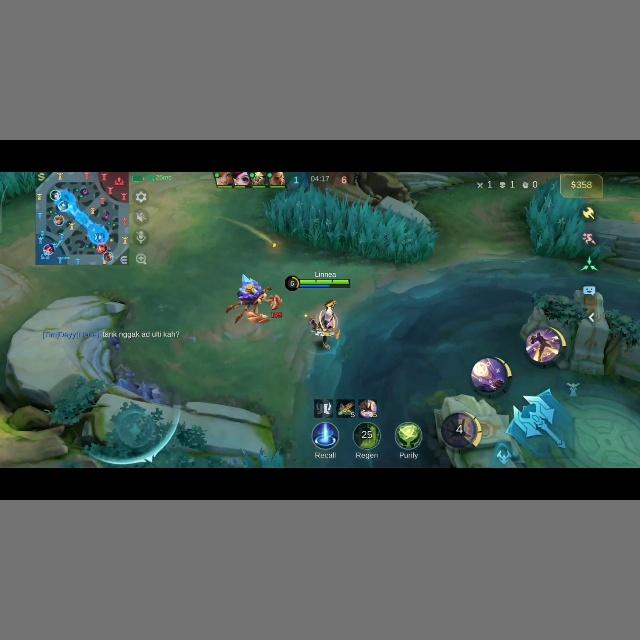hp_self: (283, 275, 352, 290)
money_crab: (224, 274, 281, 325)
